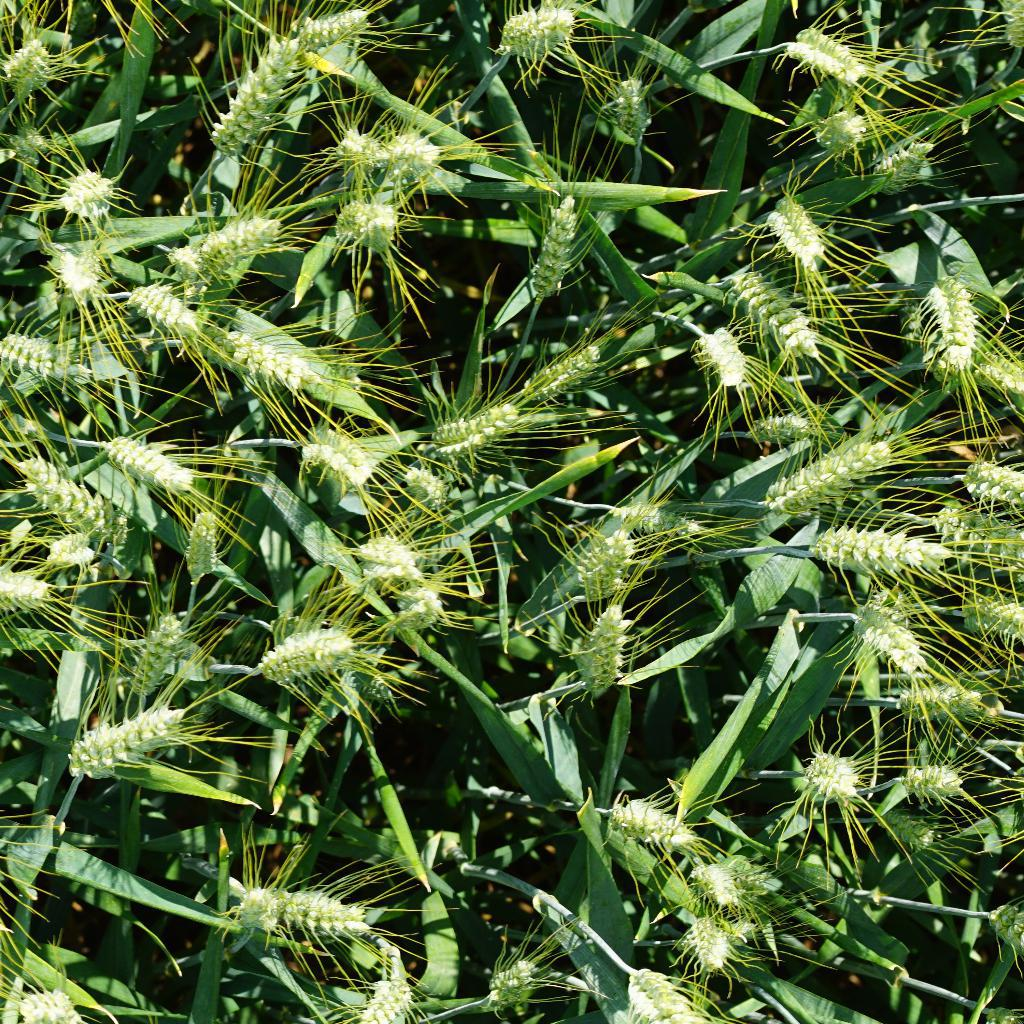0-0: (731, 425, 901, 518), (203, 25, 314, 163), (45, 702, 206, 784), (729, 273, 845, 376), (787, 515, 948, 579), (88, 421, 205, 508), (12, 449, 120, 539), (254, 621, 376, 694), (605, 486, 731, 553), (518, 185, 590, 302), (920, 265, 987, 385), (224, 321, 337, 391), (927, 499, 1023, 578), (260, 874, 373, 940), (572, 593, 634, 713), (190, 204, 291, 277), (587, 781, 694, 847), (564, 529, 639, 623), (619, 959, 725, 1024), (773, 15, 870, 86), (488, 0, 587, 67), (124, 610, 202, 695), (759, 193, 837, 271), (423, 393, 523, 453), (0, 332, 107, 388), (287, 4, 400, 56), (845, 602, 927, 673), (287, 417, 376, 482), (507, 346, 606, 402), (688, 322, 761, 397), (116, 280, 208, 339), (38, 157, 124, 220), (945, 587, 1024, 655), (601, 68, 668, 145), (377, 451, 462, 507), (174, 504, 235, 582), (345, 966, 422, 1024), (11, 974, 100, 1024), (0, 37, 60, 111), (329, 185, 400, 247), (482, 959, 549, 1023), (45, 247, 112, 311), (892, 680, 980, 727), (808, 106, 882, 161), (942, 451, 1024, 500), (387, 129, 458, 185), (746, 410, 832, 456), (686, 856, 751, 914), (800, 747, 867, 803), (973, 344, 1024, 417), (352, 524, 411, 587), (903, 757, 975, 808), (324, 119, 392, 172), (871, 138, 938, 191), (25, 527, 105, 571), (679, 926, 743, 980), (227, 873, 280, 938), (395, 576, 450, 637), (0, 559, 58, 613), (340, 666, 402, 716), (871, 807, 940, 850), (5, 119, 58, 169), (160, 243, 215, 289), (708, 915, 764, 945)
